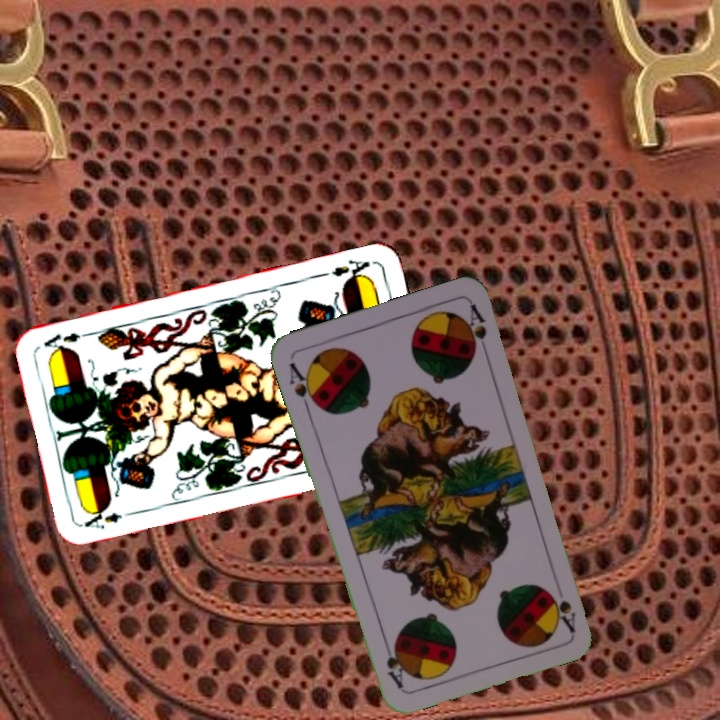EA: (327, 256, 373, 285), (80, 504, 125, 532)
SA: (285, 358, 321, 414), (548, 590, 579, 635)
